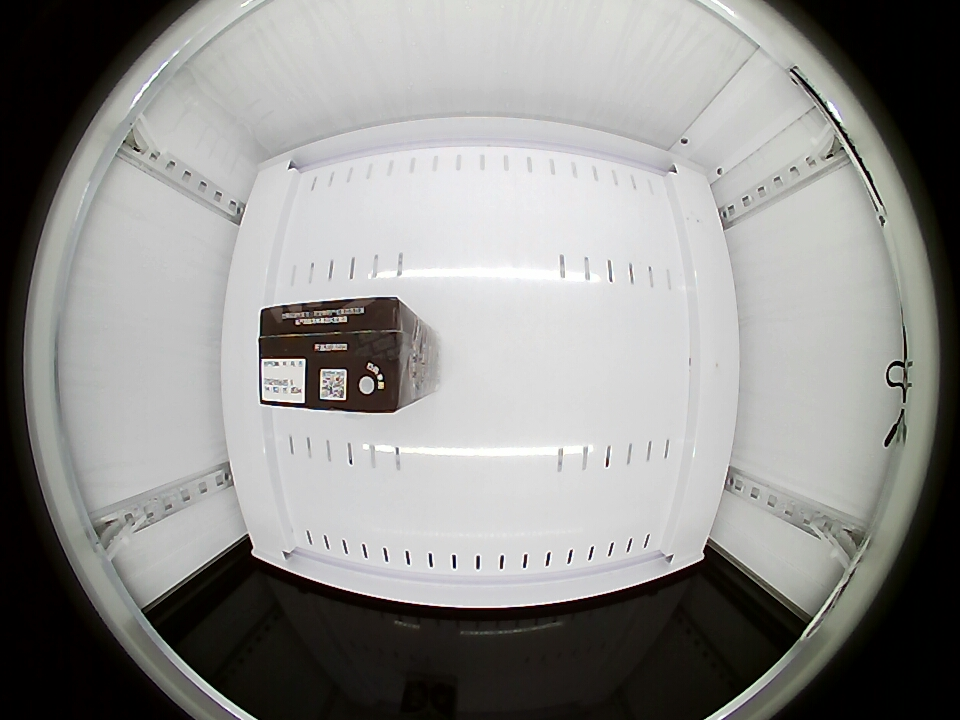weitanai2: (258, 297, 417, 413)
